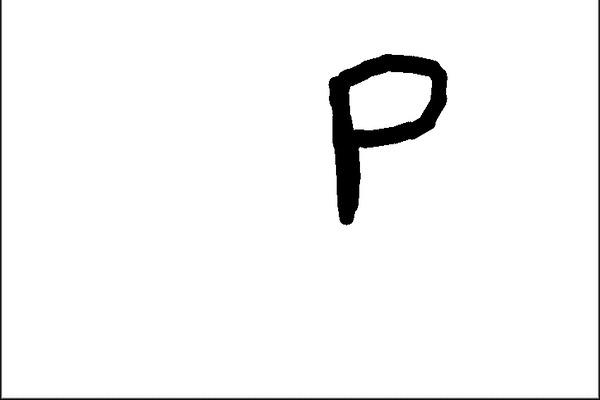P: (309, 46, 456, 230)
